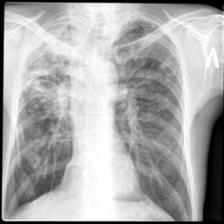tuberculosis: (3, 14, 202, 223)
